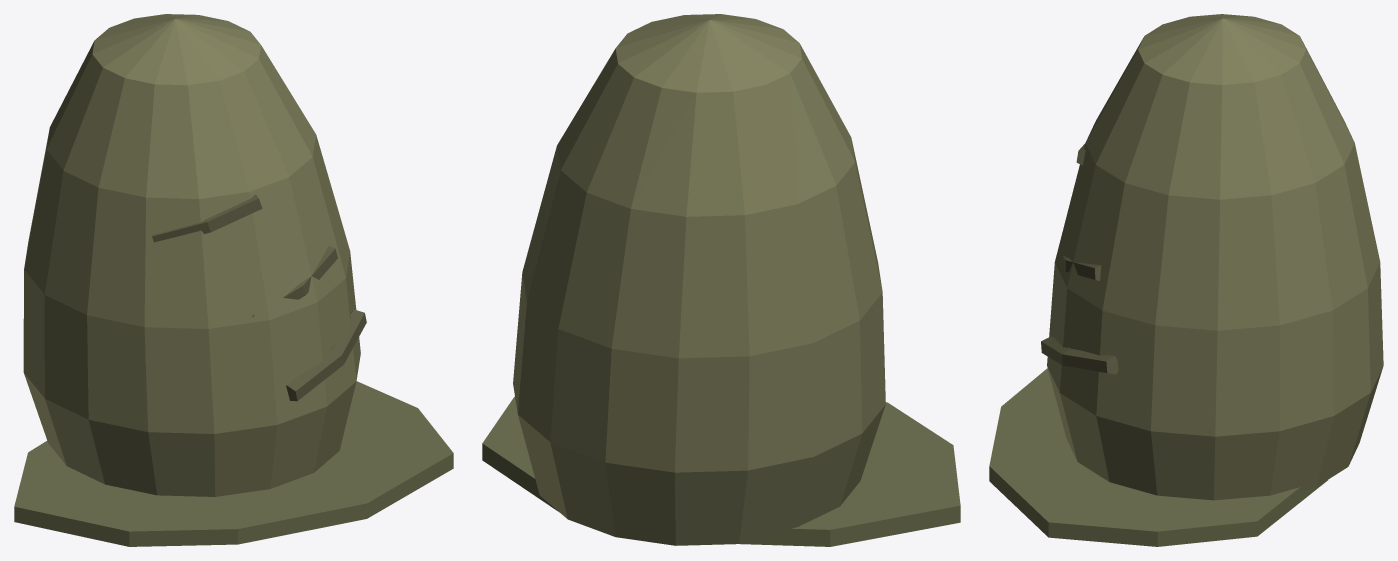
File: vge_exoworm_cocoon_c.obj
3 renders of one model, left to right at view 1: azimuth 30°, elevation 25°; view 2: azimuth 150°, elevation 25°; view 3: azimuth 270°, elevation 25°, orthographic. The views are drawn at different scales.
Visible parts, largest first — view 1: vge_exoworm_cocoon_c_1, vge_exoworm_cocoon_c_0, vge_exoworm_cocoon_c_2, vge_exoworm_cocoon_c_4, vge_exoworm_cocoon_c_3; view 2: vge_exoworm_cocoon_c_1, vge_exoworm_cocoon_c_0; view 3: vge_exoworm_cocoon_c_1, vge_exoworm_cocoon_c_0, vge_exoworm_cocoon_c_2, vge_exoworm_cocoon_c_3.
Boxes of the visible parts, x1,y1,x2,y2 form: vge_exoworm_cocoon_c_1: (23,14,360,496); vge_exoworm_cocoon_c_0: (14,381,453,546); vge_exoworm_cocoon_c_2: (286,309,366,401); vge_exoworm_cocoon_c_4: (152,194,262,242); vge_exoworm_cocoon_c_3: (252,246,337,317); vge_exoworm_cocoon_c_1: (513,14,885,545); vge_exoworm_cocoon_c_0: (482,396,960,546); vge_exoworm_cocoon_c_1: (1047,14,1383,500); vge_exoworm_cocoon_c_0: (989,368,1327,546); vge_exoworm_cocoon_c_2: (1041,336,1118,374); vge_exoworm_cocoon_c_3: (1063,255,1101,280).
Size of the model in its own units: 0.8222 by 0.84 by 0.7027.
